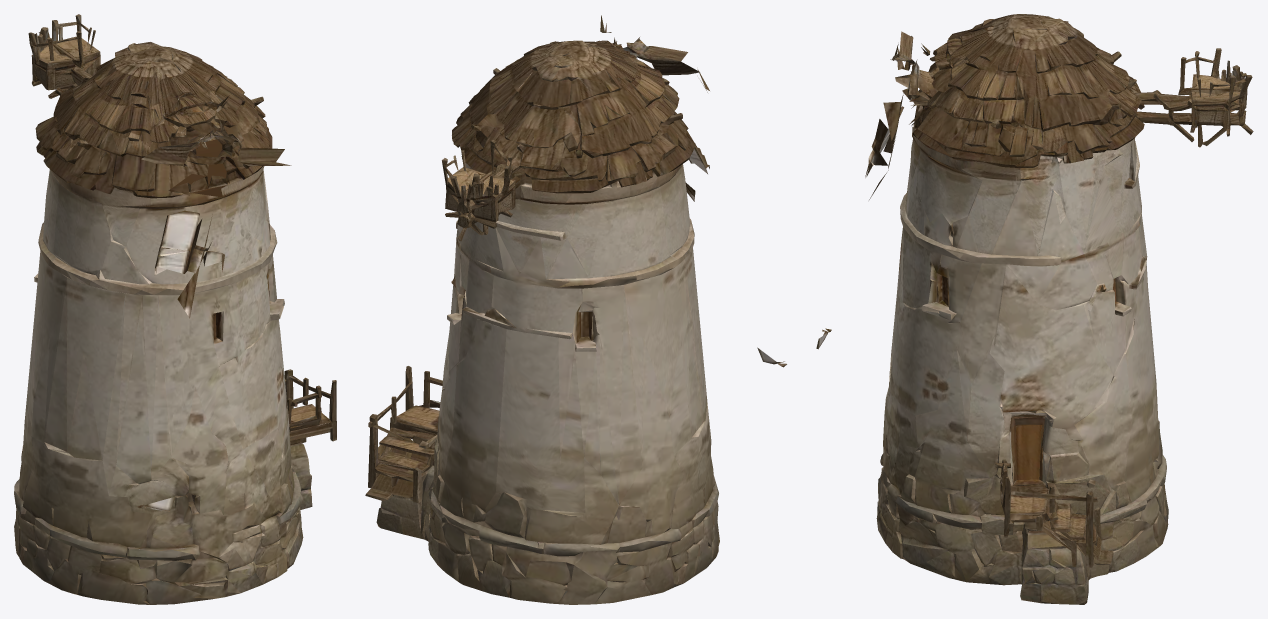
File: life_windmill_tower.glb
The picture shows the model from 3 angles, left to right: view 1: azimuth 30°, elevation 25°; view 2: azimuth 150°, elevation 25°; view 3: azimuth 270°, elevation 25°; orthographic projection. The views are drawn at different scales.
Parts seen in each view (by area): view 1: life_windmill_tower; view 2: life_windmill_tower; view 3: life_windmill_tower.
Part boxes in pixels (x1,y1,x2,y2): life_windmill_tower: [14, 14, 336, 604]; life_windmill_tower: [365, 15, 786, 604]; life_windmill_tower: [816, 14, 1253, 604].
Size of the model in its own units: 6.88 by 10.9 by 8.55.
1 material, 1 textured.
